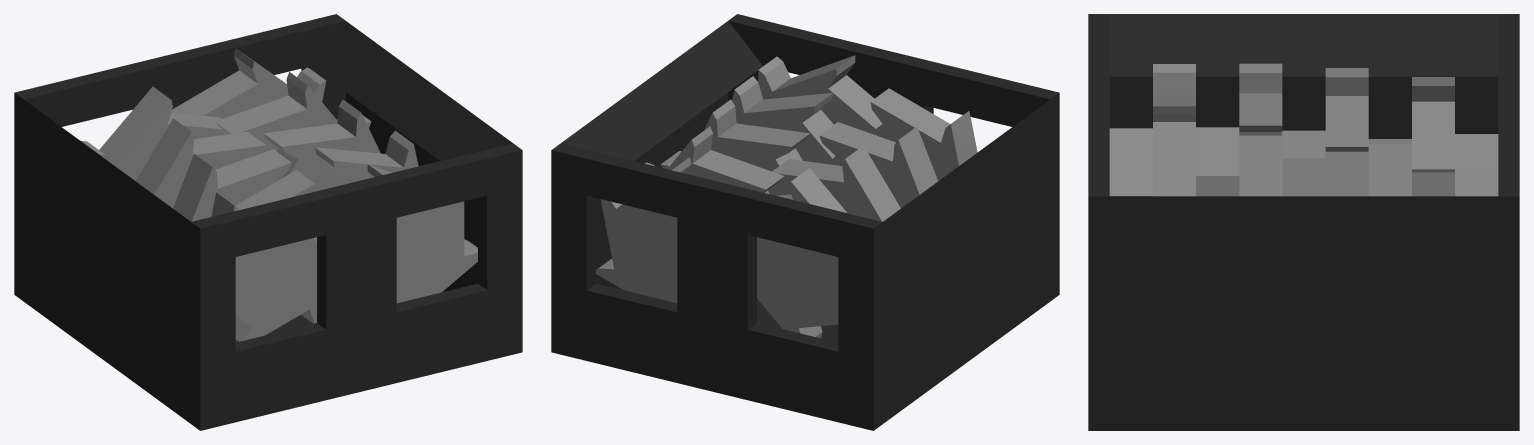
Rendered from shredder.glb.
3 renders of one model, left to right at view 1: azimuth 30°, elevation 25°; view 2: azimuth 150°, elevation 25°; view 3: azimuth 270°, elevation 25°, orthographic. The views are drawn at different scales.
Visible parts, largest first — view 1: Cube, LeftBlade, RightBlade; view 2: Cube, RightBlade, LeftBlade; view 3: Cube, LeftBlade, RightBlade.
Part boxes in pixels (<box>): Cube: <box>14,14,522,430</box>; LeftBlade: <box>80,86,316,342</box>; RightBlade: <box>171,48,477,303</box>; Cube: <box>551,14,1059,430</box>; RightBlade: <box>596,55,882,303</box>; LeftBlade: <box>757,88,977,338</box>; Cube: <box>1088,14,1519,430</box>; LeftBlade: <box>1153,63,1454,196</box>; RightBlade: <box>1109,127,1498,196</box>.
Bounding box in the file's own units: 2 × 1.2 × 2.
2 materials, 2 textured.
